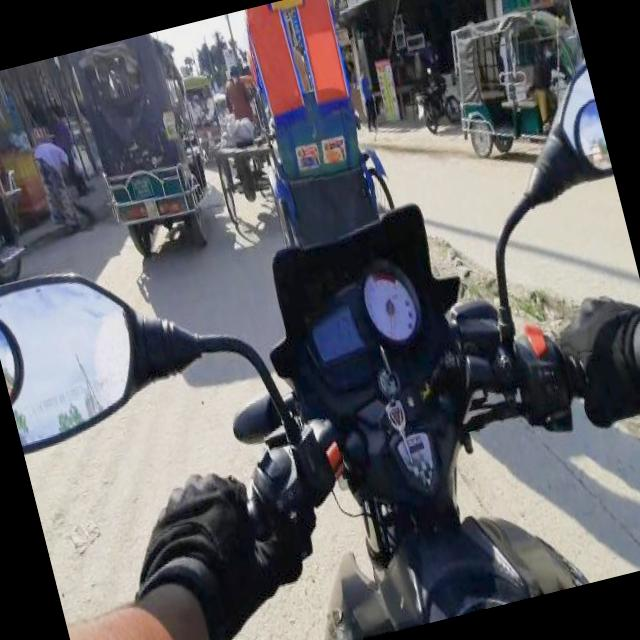motorcycle: (0, 132, 640, 640), (227, 0, 399, 246), (70, 27, 224, 263), (434, 4, 554, 162), (0, 74, 39, 283), (407, 63, 462, 135)
